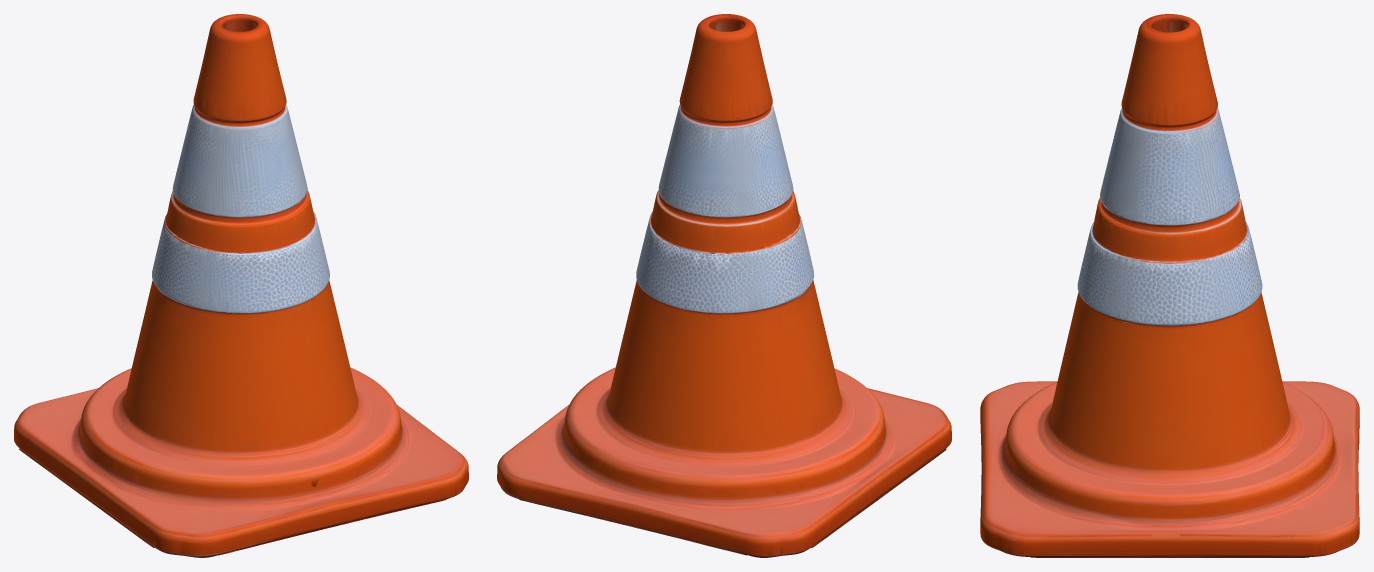
The picture shows the model from 3 angles, left to right: view 1: azimuth 30°, elevation 25°; view 2: azimuth 150°, elevation 25°; view 3: azimuth 270°, elevation 25°; orthographic projection. The views are drawn at different scales.
Visible parts, largest first — view 1: Object_4; view 2: Object_4; view 3: Object_4.
Boxes of the visible parts, x1,y1,x2,y2 form: Object_4: [14, 14, 468, 557]; Object_4: [497, 14, 951, 557]; Object_4: [980, 14, 1359, 557].
Bounding box in the file's own units: 0.6449 × 0.8741 × 0.6566.
1 material, 1 textured.
